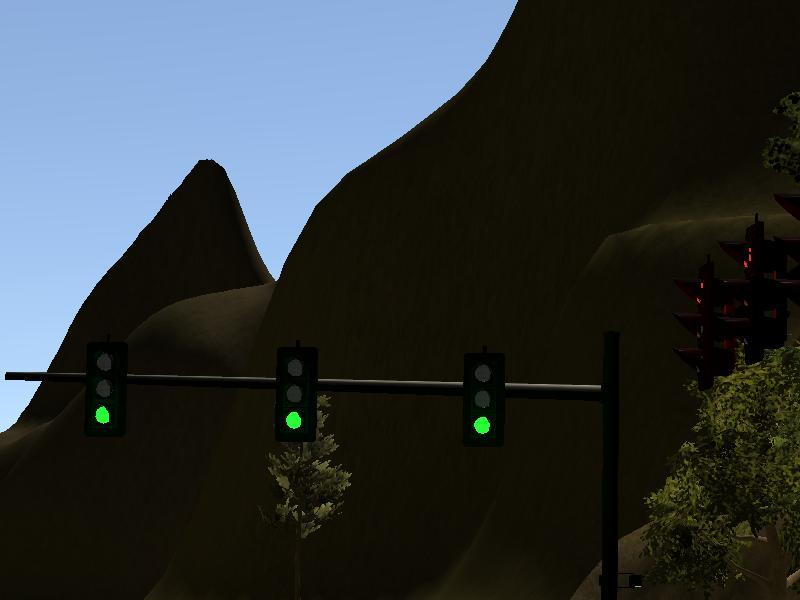Green: (458, 347, 500, 450), (277, 344, 317, 441), (82, 344, 124, 434)
